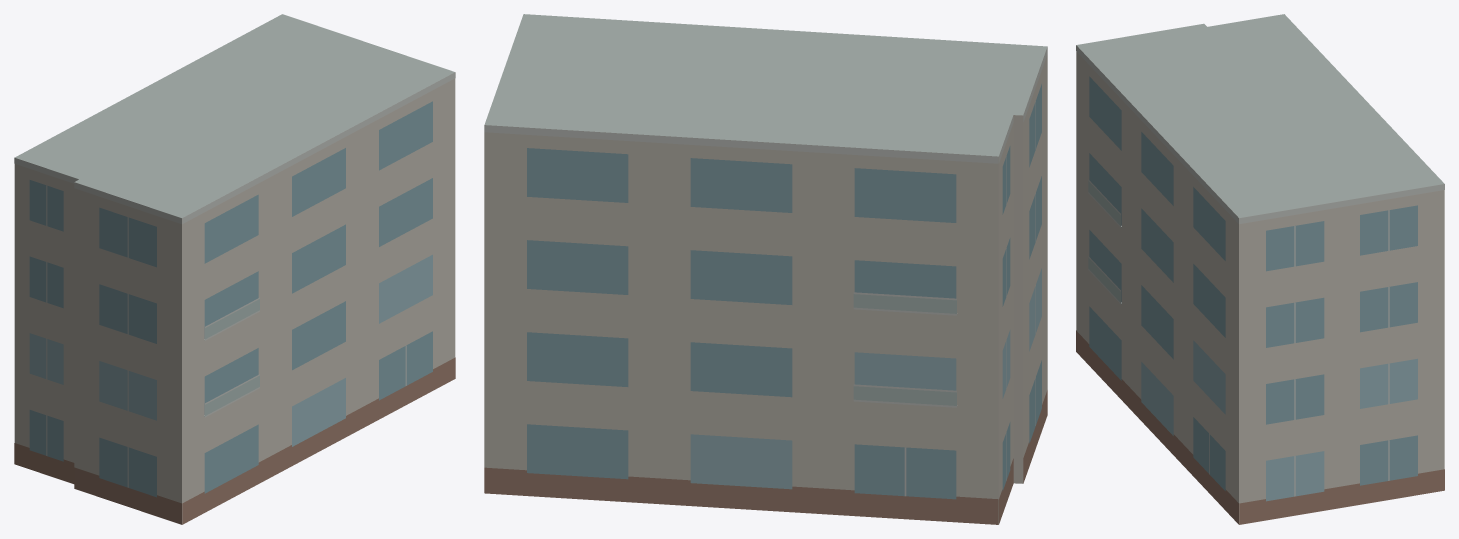
File: survey-upis-32843095.glb
The picture shows the model from 3 angles, left to right: view 1: azimuth 30°, elevation 25°; view 2: azimuth 150°, elevation 25°; view 3: azimuth 270°, elevation 25°; orthographic projection. The views are drawn at different scales.
Visible parts, largest first — view 1: survey-upis-32843095.tmp; view 2: survey-upis-32843095.tmp; view 3: survey-upis-32843095.tmp.
Boxes of the visible parts, left/top/right/bottom form: survey-upis-32843095.tmp: left=14, top=14, right=455, bottom=524; survey-upis-32843095.tmp: left=484, top=14, right=1047, bottom=524; survey-upis-32843095.tmp: left=1076, top=14, right=1444, bottom=524.
Bounding box in the file's own units: 17.71 × 12.4 × 13.52.
